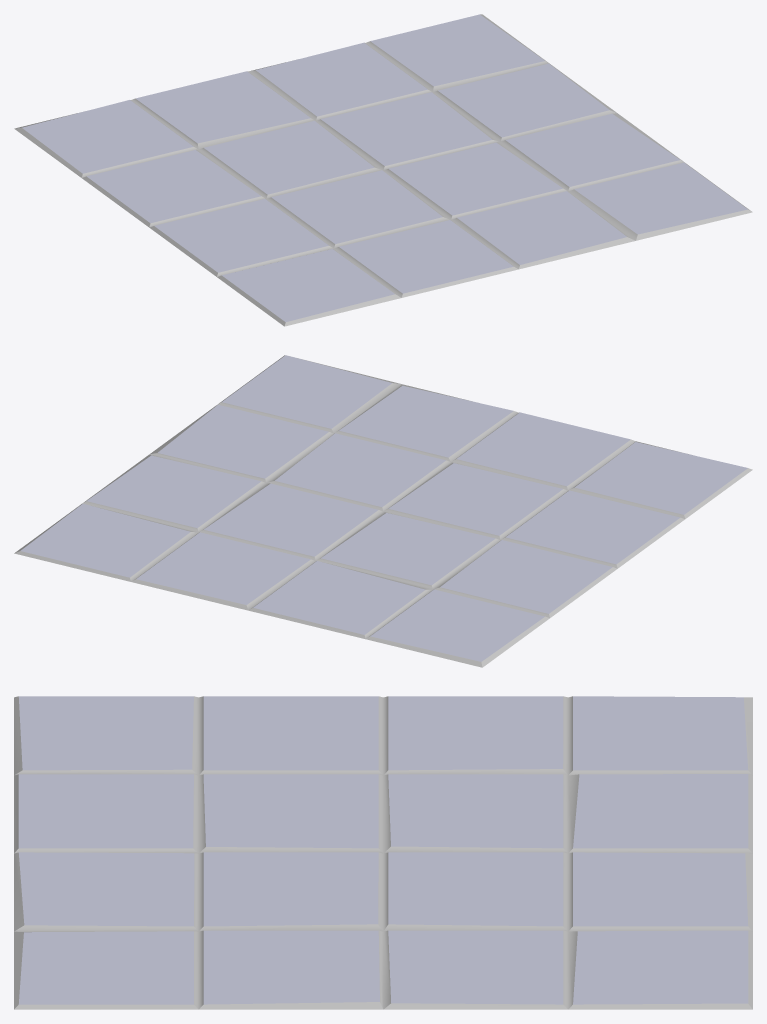
The model's file is Hyper_Gym_Floor5.fbx.
The picture shows the model from 3 angles, top to bottom: view 1: azimuth 30°, elevation 25°; view 2: azimuth 150°, elevation 25°; view 3: azimuth 270°, elevation 25°; orthographic projection. The views are drawn at different scales.
Parts seen in each view (by area): view 1: Hypercasual_Gym_Floor1; view 2: Hypercasual_Gym_Floor1; view 3: Hypercasual_Gym_Floor1.
Boxes of the visible parts, x1,y1,x2,y2 form: Hypercasual_Gym_Floor1: (14, 14, 752, 326); Hypercasual_Gym_Floor1: (14, 355, 752, 667); Hypercasual_Gym_Floor1: (14, 696, 752, 1009).
Bounding box in the file's own units: 4.27 × 0.0201 × 4.27.
